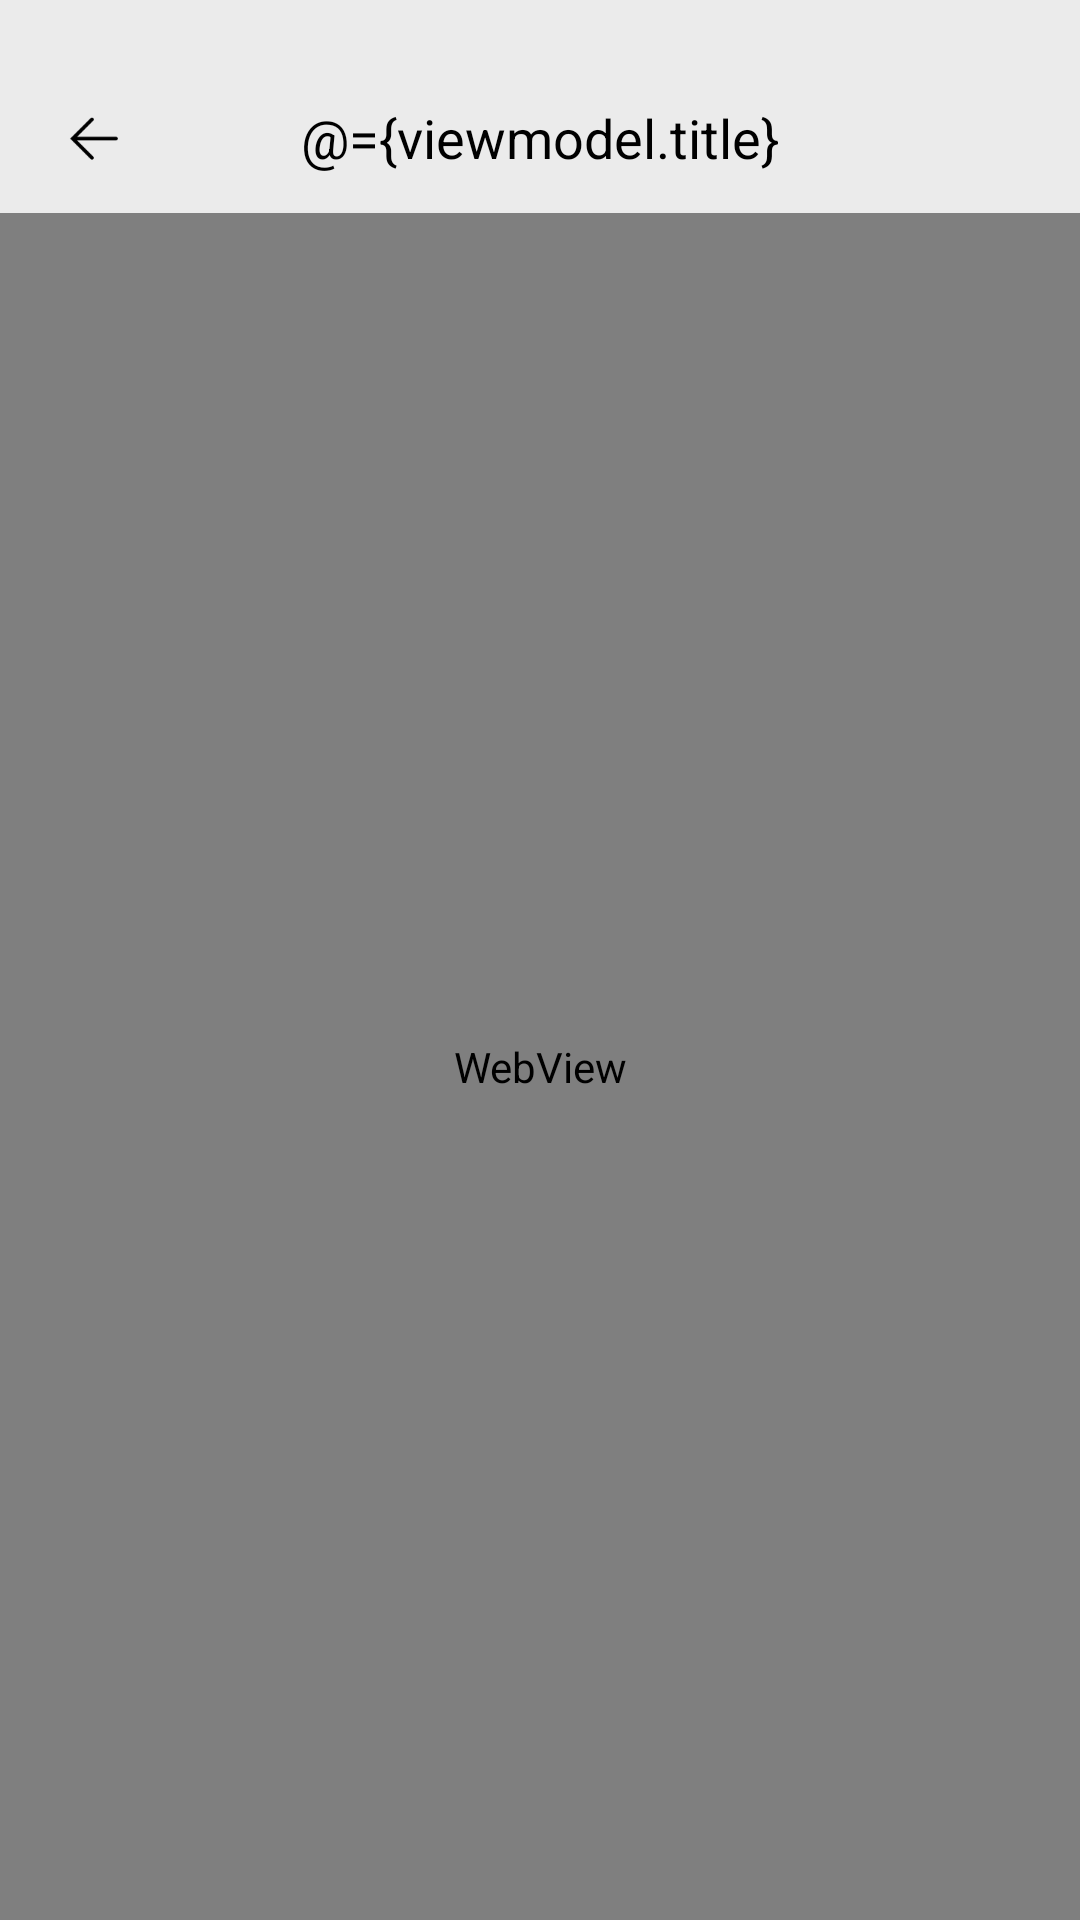

Icons on this 1080w x 1920h Android screen, each with its box as (x1, y1, x2, y2):
back: (70, 117, 118, 160)
